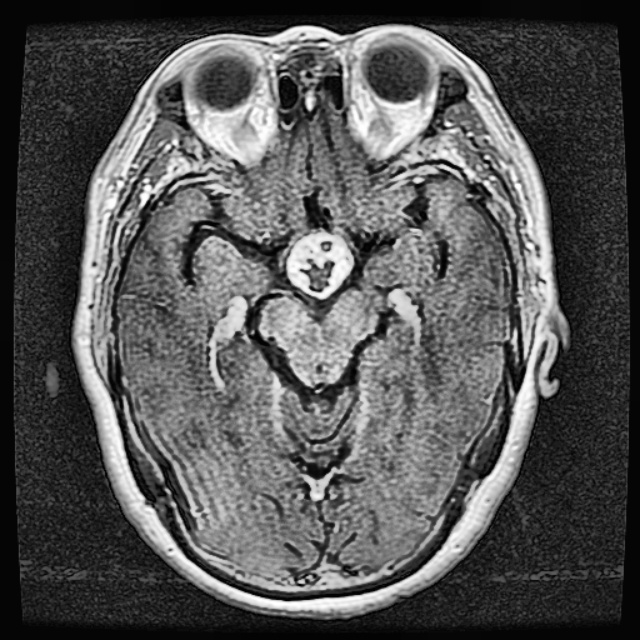Pituitary: (284, 230, 353, 299)
